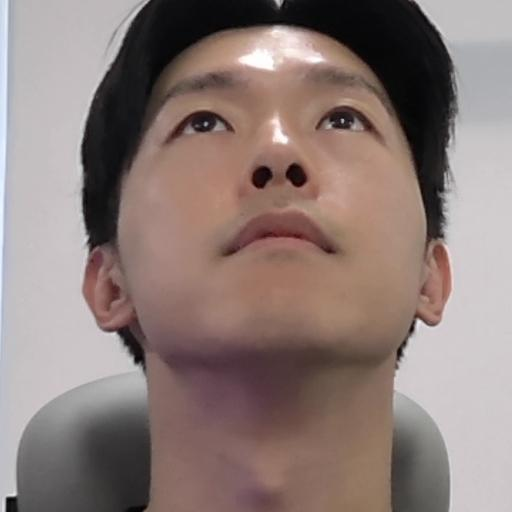no_glasses: (77, 0, 466, 389)
